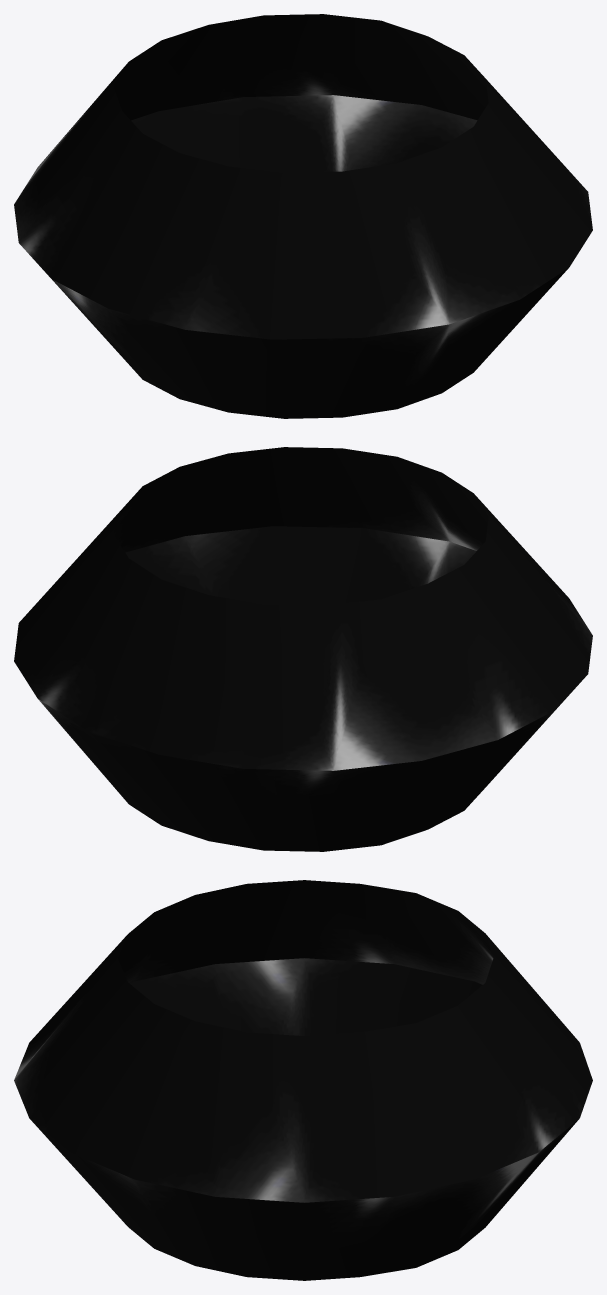
File: 0129_S_FX_Huan_002.glb
3 views of the same model, one above another, from view 1: azimuth 30°, elevation 25°; view 2: azimuth 150°, elevation 25°; view 3: azimuth 270°, elevation 25° (orthographic).
Size of the model in its own units: 2.2 by 1.03 by 2.2.
1 material, 1 textured.
